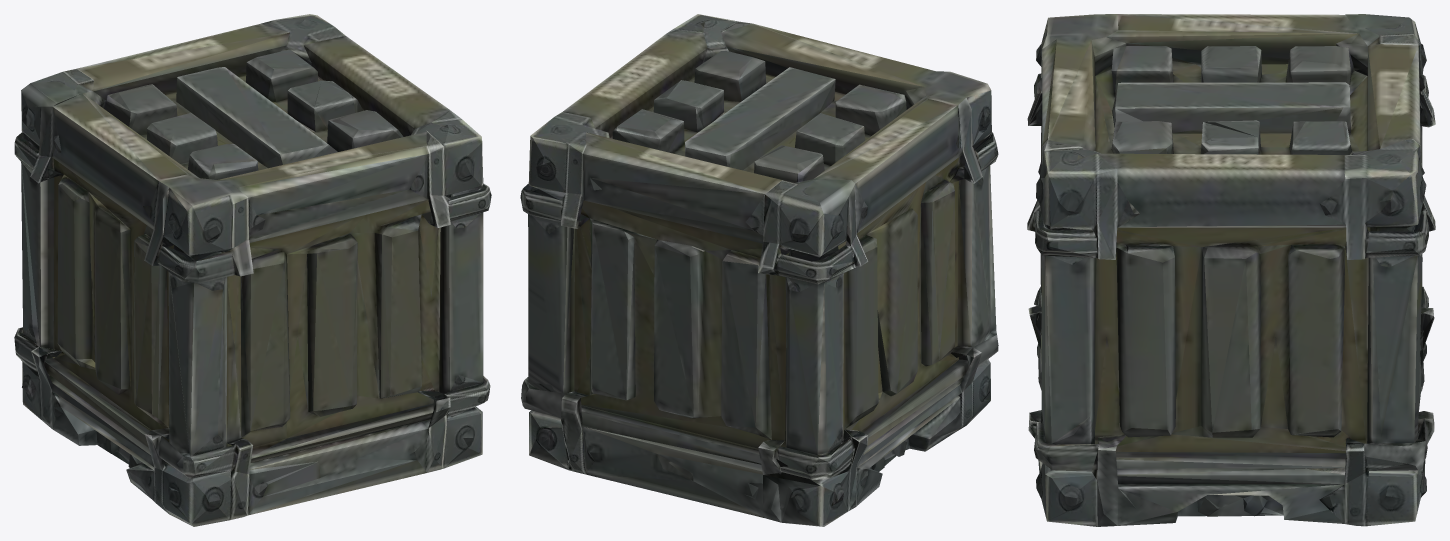
The model's file is crate.glb.
3 views of the same model, side by side, from view 1: azimuth 30°, elevation 25°; view 2: azimuth 150°, elevation 25°; view 3: azimuth 270°, elevation 25° (orthographic). The views are drawn at different scales.
Parts seen in each view (by area): view 1: output_unwrapped; view 2: output_unwrapped; view 3: output_unwrapped.
Boxes of the visible parts, left/top/right/bottom form: output_unwrapped: left=14, top=14, right=491, bottom=526; output_unwrapped: left=520, top=14, right=998, bottom=526; output_unwrapped: left=1027, top=14, right=1435, bottom=526.
Size of the model in its own units: 1.9 by 1.87 by 1.9.
1 material, 1 textured.
